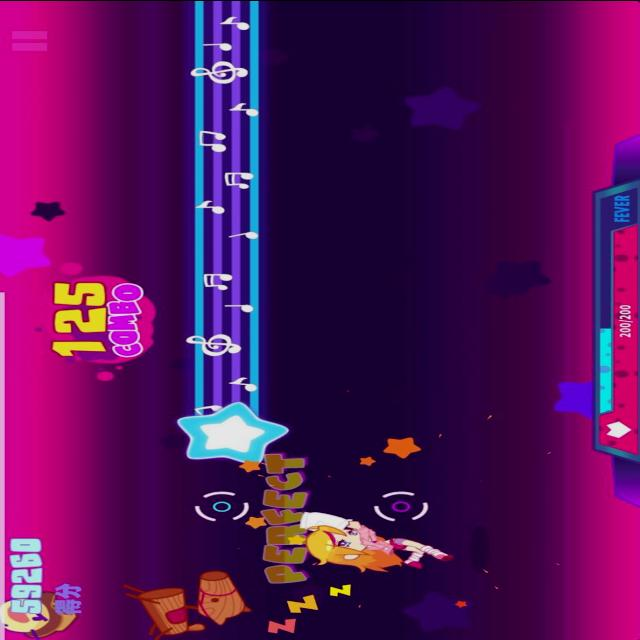hold: (171, 0, 290, 464)
